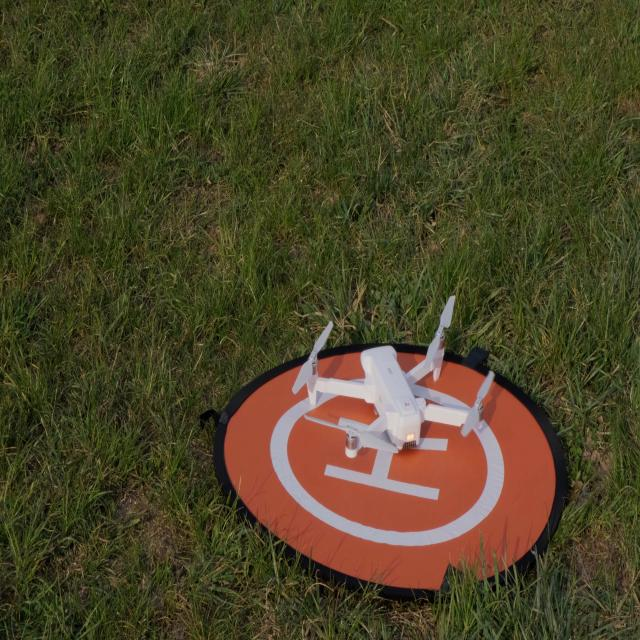drone: (291, 294, 495, 459)
